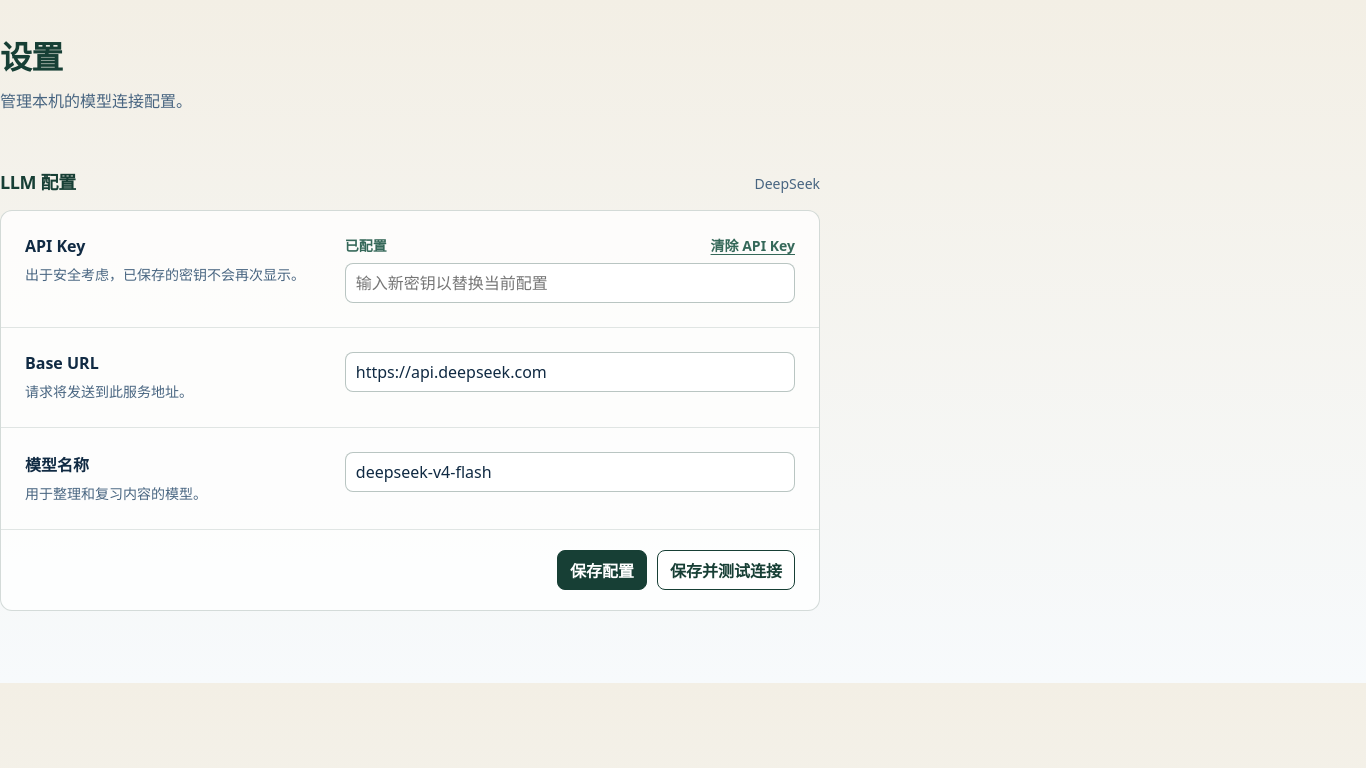
Test: SettingsPage › 拒绝非 HTTP(S) 的 Base URL
This screenshot has width=1366, height=768.
Check: the button "保存配置" is shown, box [557, 550, 647, 590]
Replace the text in the field labelled "Base URL" with "ftp://api.deepseek.com" at (570, 372), box [345, 352, 795, 392]
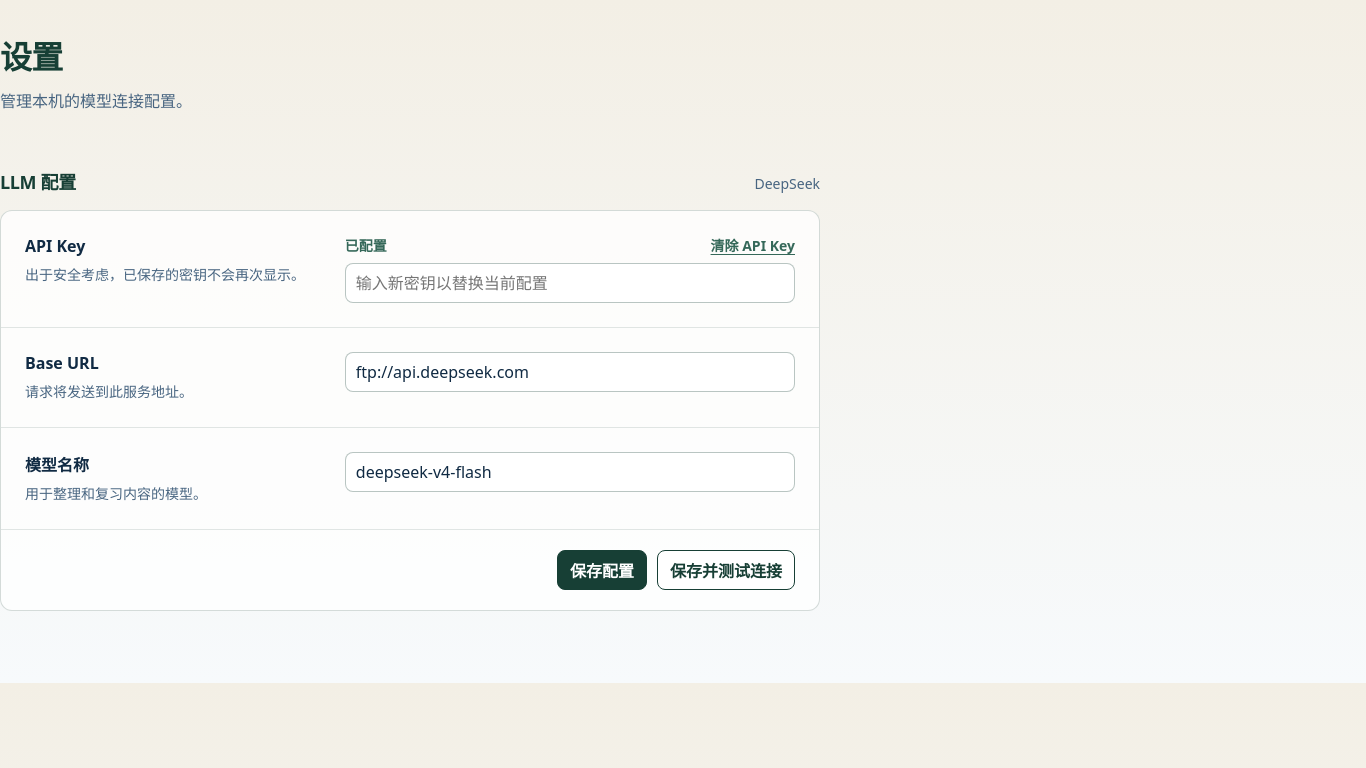
Click the button "保存配置".
click(602, 570)  # box [557, 550, 647, 590]
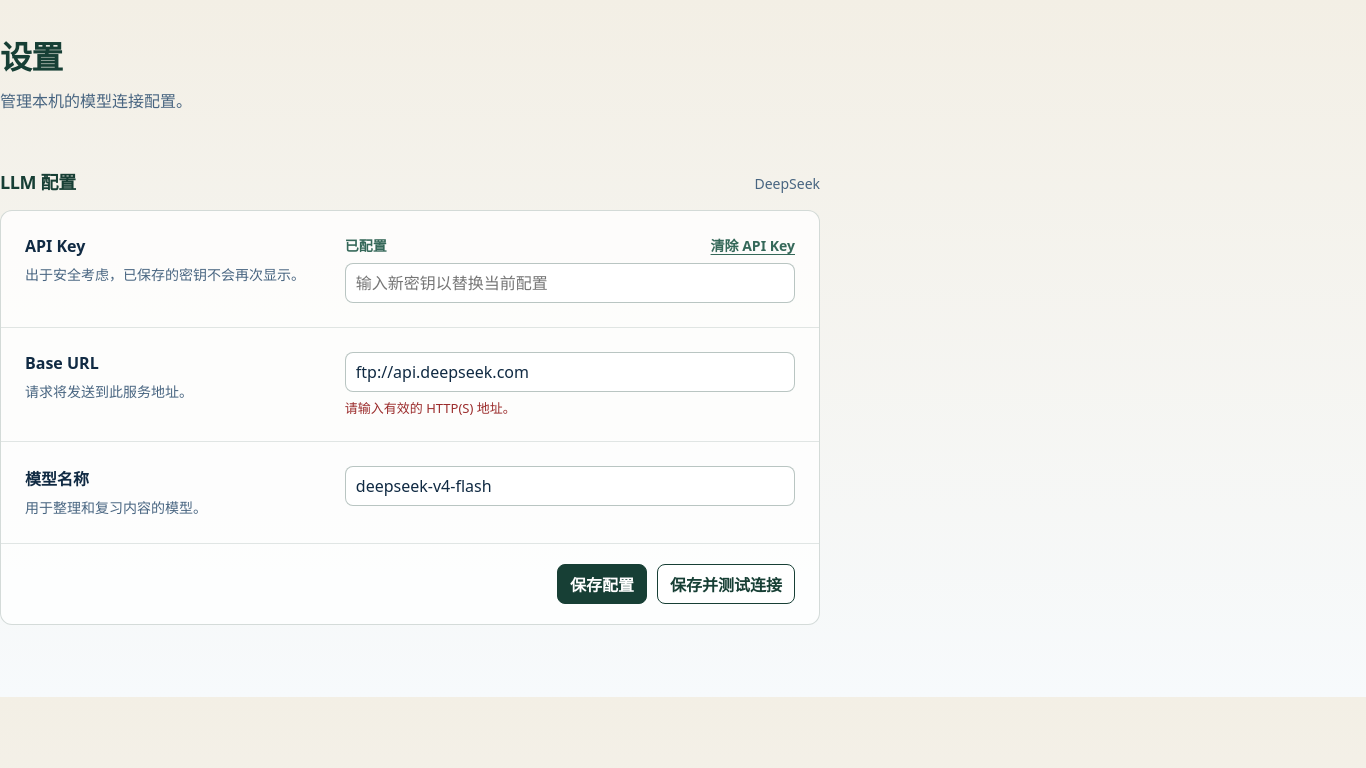
Check: the text "请输入有效的 HTTP(S) 地址。" is shown, box [345, 399, 516, 417]
